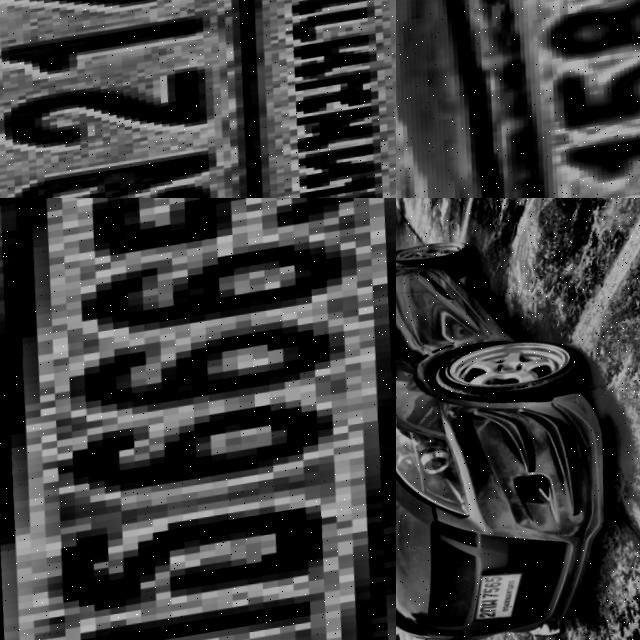license-plate: (0, 198, 396, 640), (0, 0, 396, 198), (412, 0, 640, 198), (473, 572, 532, 629)
